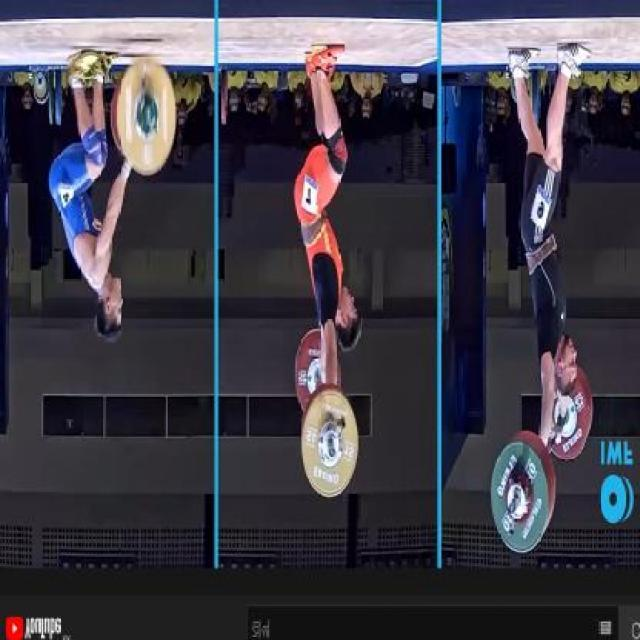Barbell: (324, 438, 338, 464), (141, 102, 154, 126), (506, 496, 519, 519)
